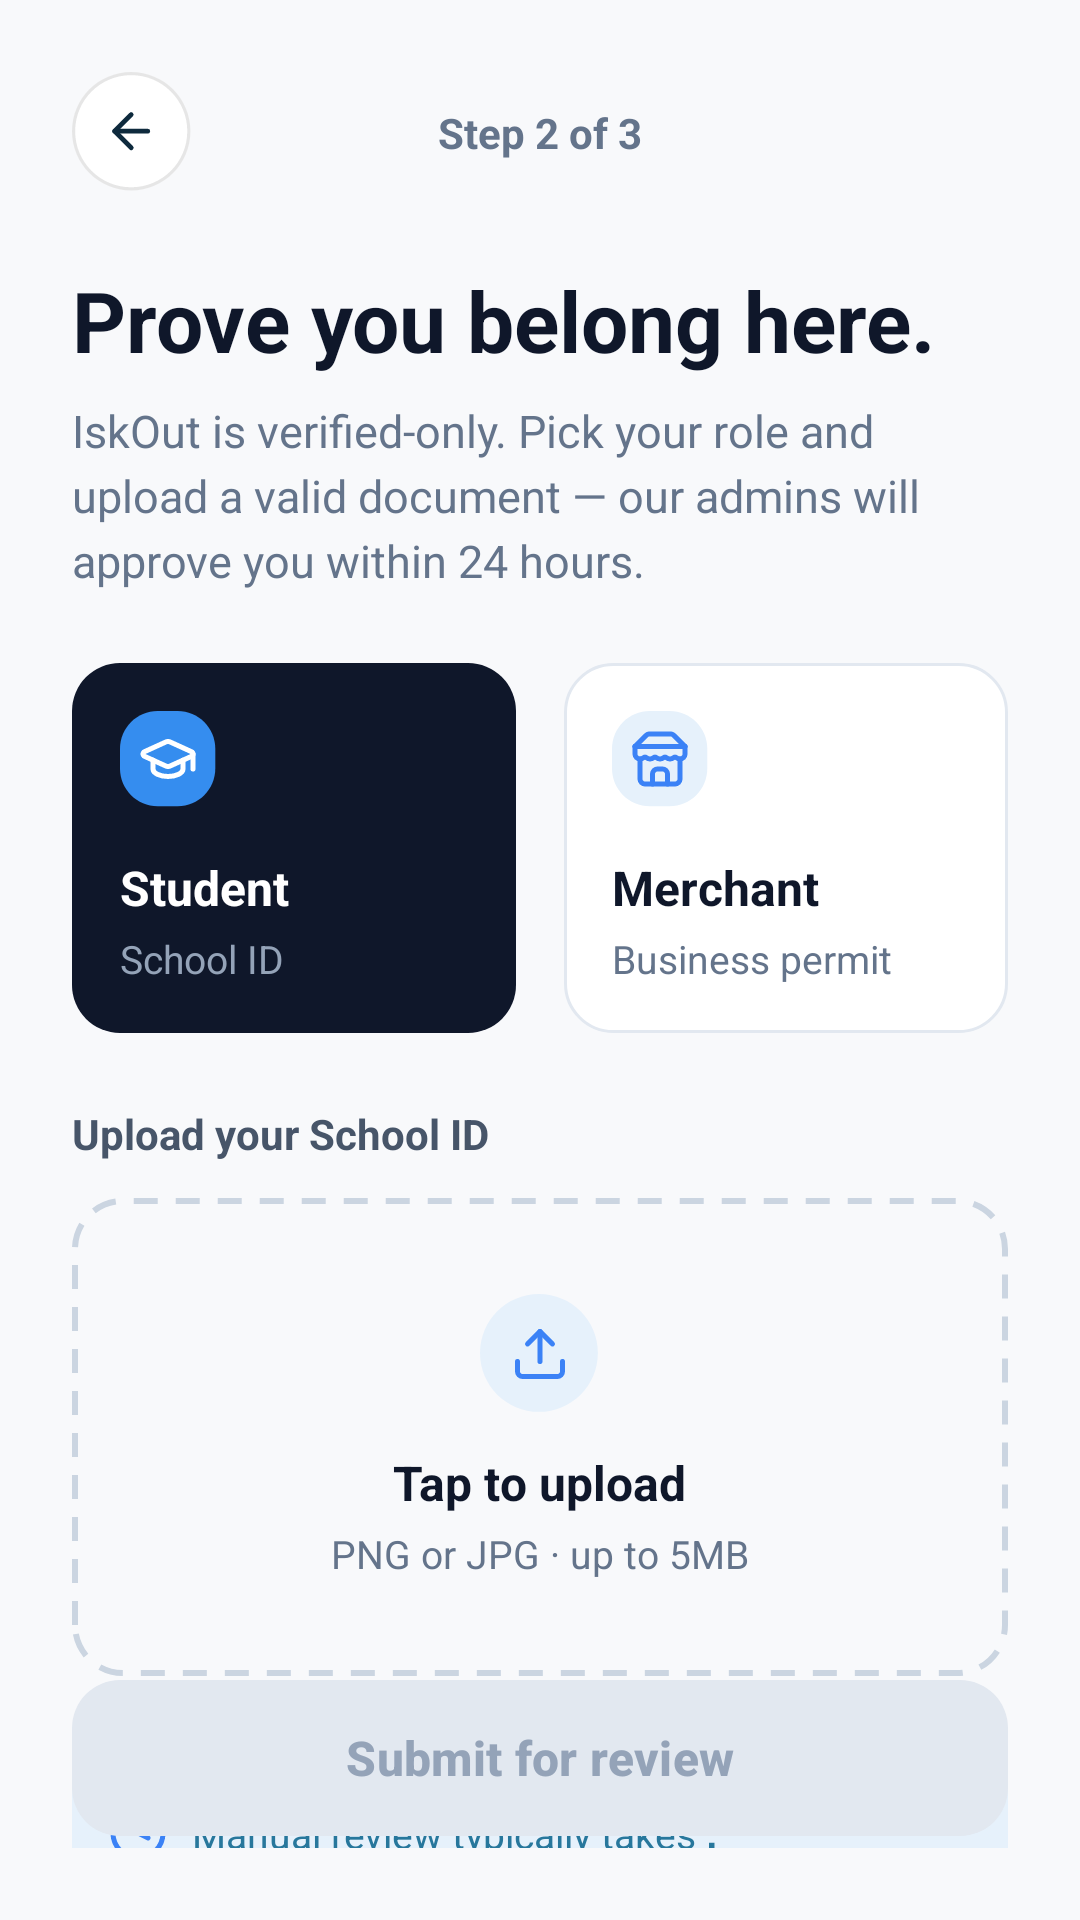

Icons on this 1080×1920 Android screen, each with the point to tap as [x,y]:
backbutton: [131,131]
graduation cap: [168,759]
store: [660,759]
